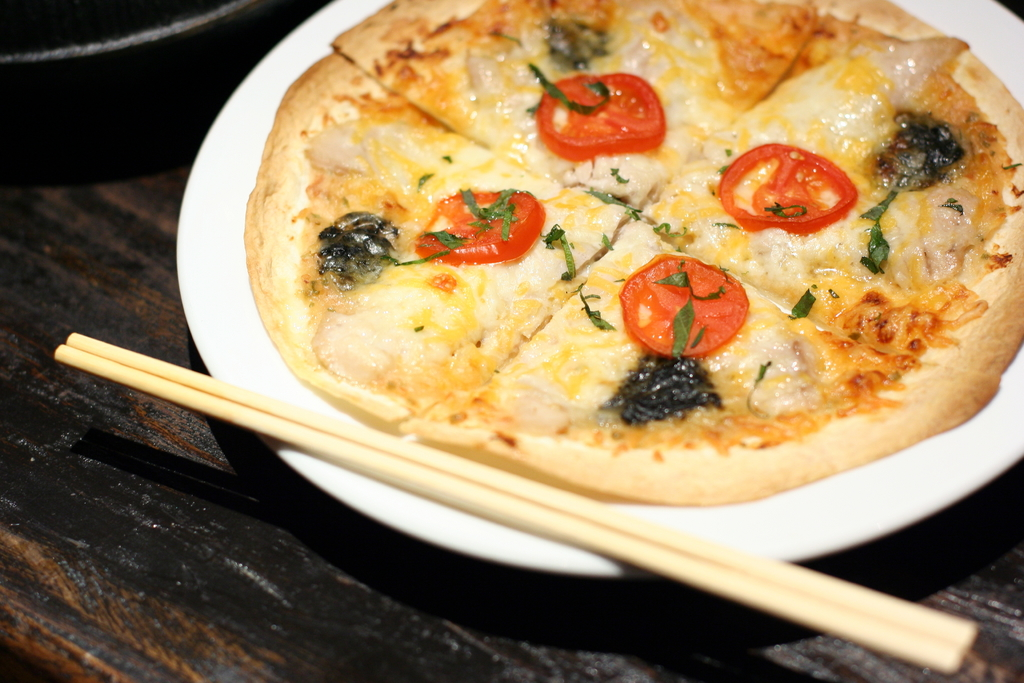Pizza: (238, 0, 1023, 507)
